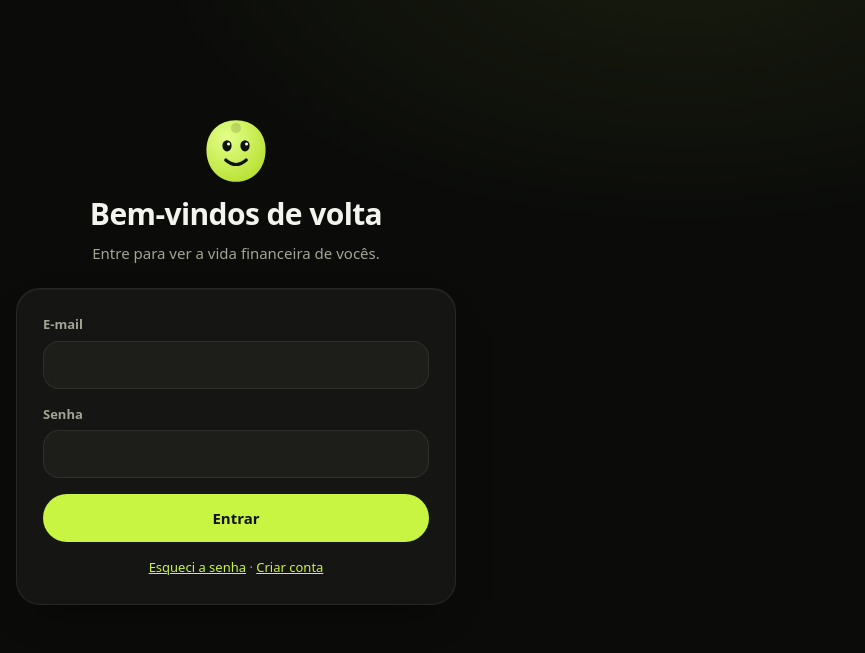
Test: login › mostra o erro amigável quando as credenciais falham
Type "ana@exemplo.com" into the field labelled "E-mail" at x=236, y=365, box [43,341,429,389]
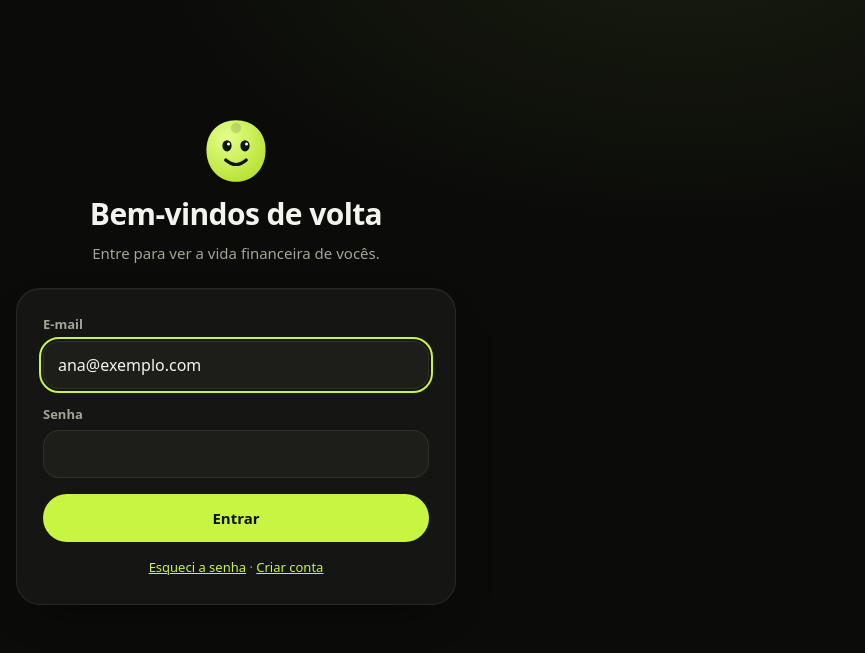
Type "errada123" into the password field labelled "Senha" at x=236, y=454, box [43,430,429,478]
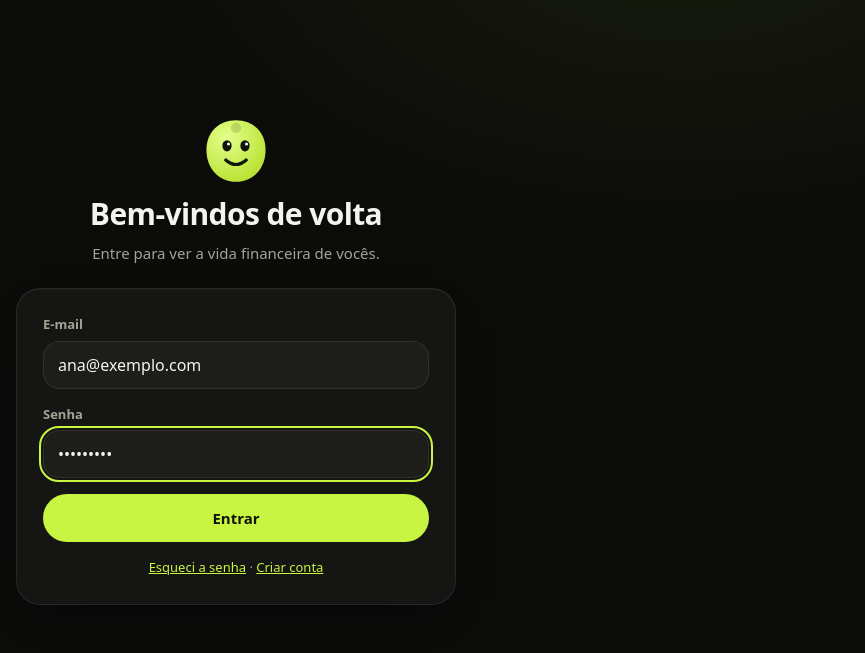
Click the button "Entrar" at x=236, y=518, box [43,494,429,542]
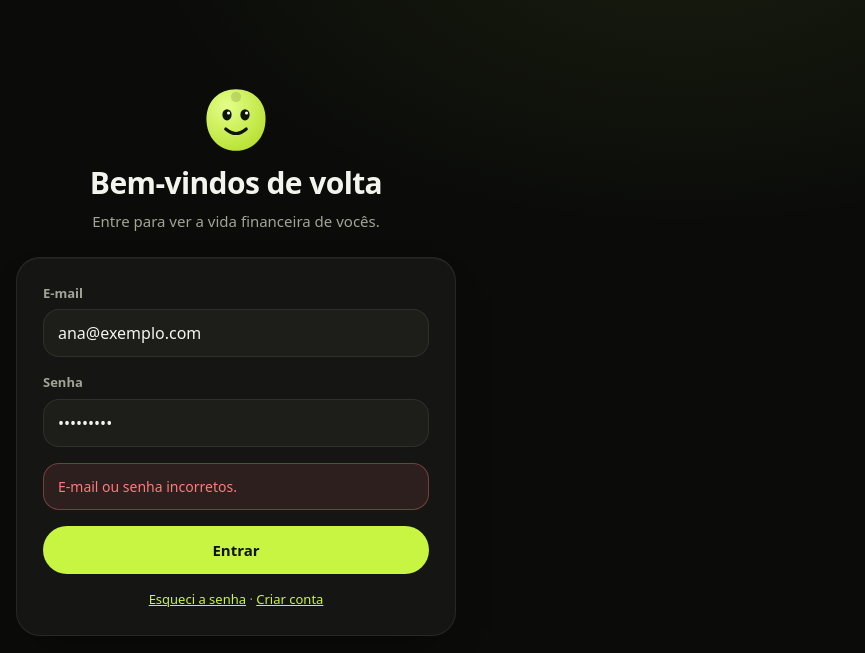
Expected: the message reads "E-mail ou senha incorretos.", [58,477,237,496]
